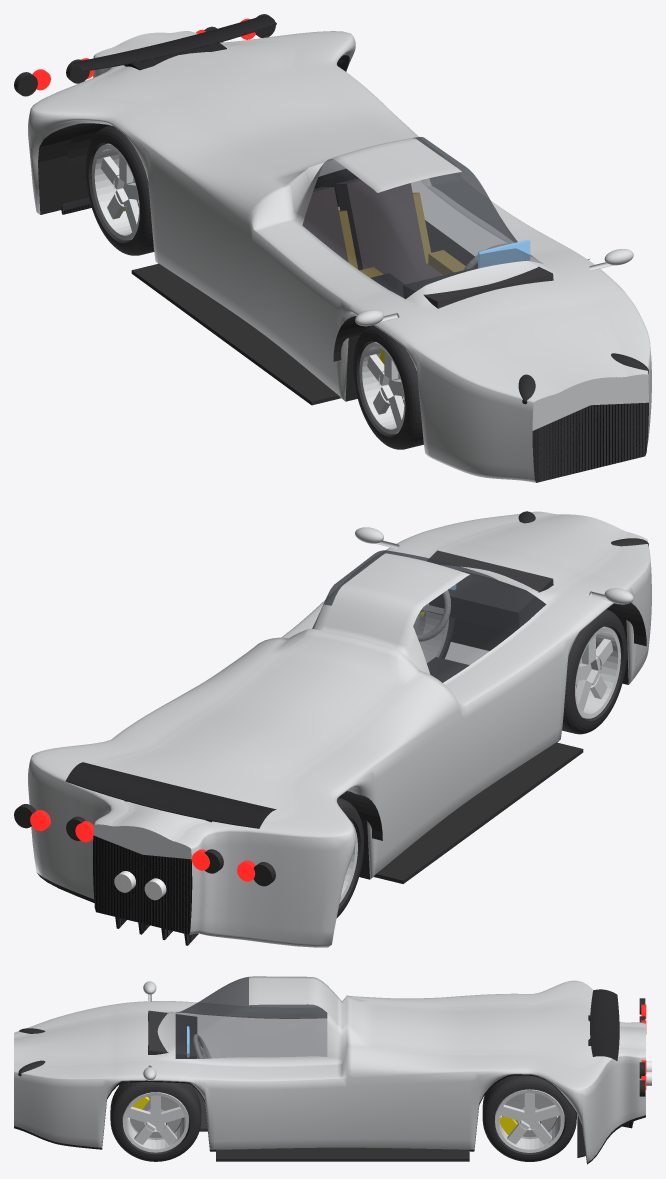
Rendered from porsche-carrera-gt.glb.
3 renders of one model, top to bottom at view 1: azimuth 30°, elevation 25°; view 2: azimuth 150°, elevation 25°; view 3: azimuth 270°, elevation 25°, orthographic. The views are drawn at different scales.
Visible parts, largest first — view 1: Body_PrimaryPaint, Glass_Windows, Carbon_Exterior, WheelWells, Interior_Seats, Underbody, Tire_FR, Rim_RR, Tire_RR, Rim_FR, Interior_Dashboard, Lights_Housings (+2 smaller); view 2: Body_PrimaryPaint, Carbon_Exterior, Glass_Windows, WheelWells, Interior_Dashboard, Rim_FR, Tire_FR, Underbody, Lights_Housings, Lights_Rear, Tire_RR, Rim_FL (+2 smaller); view 3: Body_PrimaryPaint, Glass_Windows, WheelWells, Tire_FL, Tire_RL, Rim_RL, Rim_FL, Carbon_Exterior, Interior_Dashboard, Underbody, BrakeDisc_RL, Lights_Housings (+2 smaller).
Boxes of the visible parts, x1,y1,x2,y2 form: Body_PrimaryPaint: (28, 31, 651, 482); Glass_Windows: (302, 137, 542, 298); Carbon_Exterior: (61, 15, 648, 482); WheelWells: (67, 123, 589, 405); Interior_Seats: (302, 178, 442, 284); Underbody: (38, 55, 360, 401); Tire_FR: (353, 325, 423, 449); Rim_RR: (91, 143, 139, 240); Tire_RR: (85, 125, 154, 255); Rim_FR: (359, 342, 405, 434); Interior_Dashboard: (403, 260, 553, 308); Lights_Housings: (14, 14, 648, 404); Body_PrimaryPaint: (28, 511, 651, 947); Carbon_Exterior: (65, 762, 276, 945); Glass_Windows: (321, 550, 545, 682); WheelWells: (338, 603, 646, 883); Interior_Dashboard: (427, 550, 553, 632); Rim_FR: (575, 626, 620, 718); Tire_FR: (562, 609, 627, 734); Underbody: (37, 617, 628, 902); Lights_Housings: (14, 511, 648, 886); Lights_Rear: (30, 810, 255, 881); Tire_RR: (336, 798, 364, 917); Rim_FL: (420, 612, 448, 662); Body_PrimaryPaint: (14, 976, 645, 1162); Glass_Windows: (175, 977, 327, 1058); WheelWells: (216, 1147, 469, 1161); Tire_FL: (110, 1082, 201, 1161); Tire_RL: (482, 1075, 576, 1161); Rim_RL: (495, 1089, 564, 1152); Rim_FL: (122, 1092, 188, 1152); Carbon_Exterior: (577, 989, 633, 1157); Interior_Dashboard: (148, 1010, 197, 1058); Underbody: (14, 1074, 645, 1164); BrakeDisc_RL: (502, 1093, 557, 1139); Lights_Housings: (18, 998, 645, 1096).
Bounding box in the file's own units: 1.93 × 1.1 × 4.66.
Materials: 16 (2 with a texture image).
